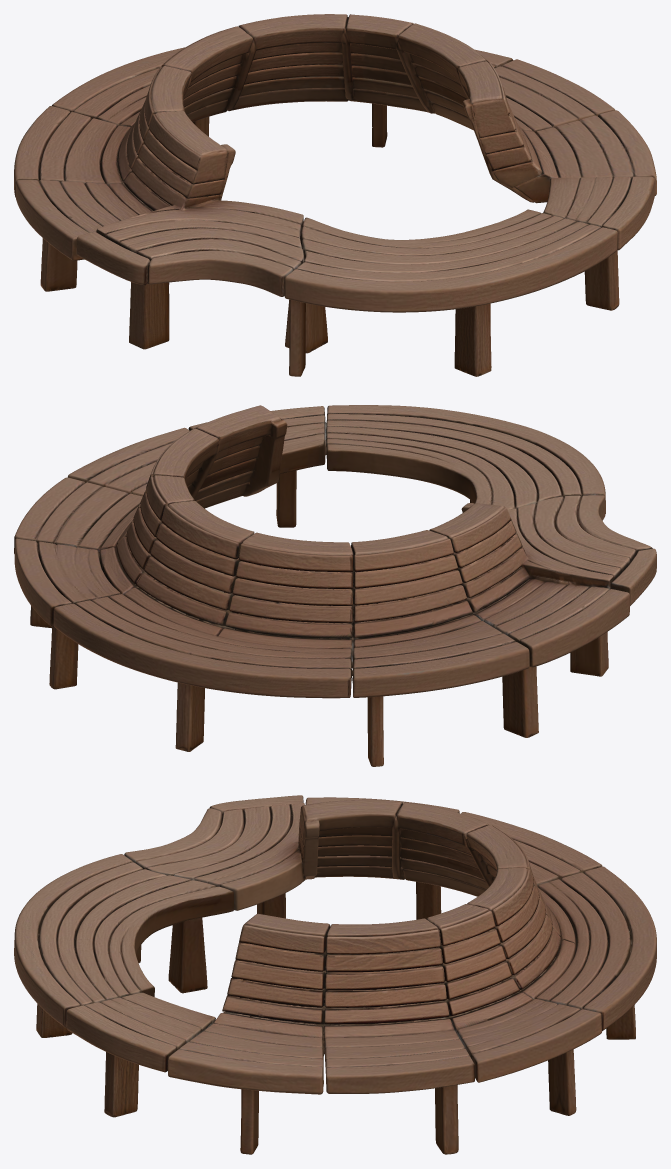
Rendered from treebench_ring.glb.
3 renders of one model, top to bottom at view 1: azimuth 30°, elevation 25°; view 2: azimuth 150°, elevation 25°; view 3: azimuth 270°, elevation 25°, orthographic.
Parts seen in each view (by area): view 1: tripo_node_6f01738a-4bdf-4865-9e24-fbcca63d4fdb; view 2: tripo_node_6f01738a-4bdf-4865-9e24-fbcca63d4fdb; view 3: tripo_node_6f01738a-4bdf-4865-9e24-fbcca63d4fdb.
Part boxes in pixels (left/top/right/bottom): tripo_node_6f01738a-4bdf-4865-9e24-fbcca63d4fdb: left=14, top=14, right=656, bottom=376; tripo_node_6f01738a-4bdf-4865-9e24-fbcca63d4fdb: left=14, top=405, right=656, bottom=766; tripo_node_6f01738a-4bdf-4865-9e24-fbcca63d4fdb: left=14, top=795, right=656, bottom=1154.
Size of the model in its own units: 1.67 by 0.5 by 1.69.
Materials: 1 (1 with a texture image).
